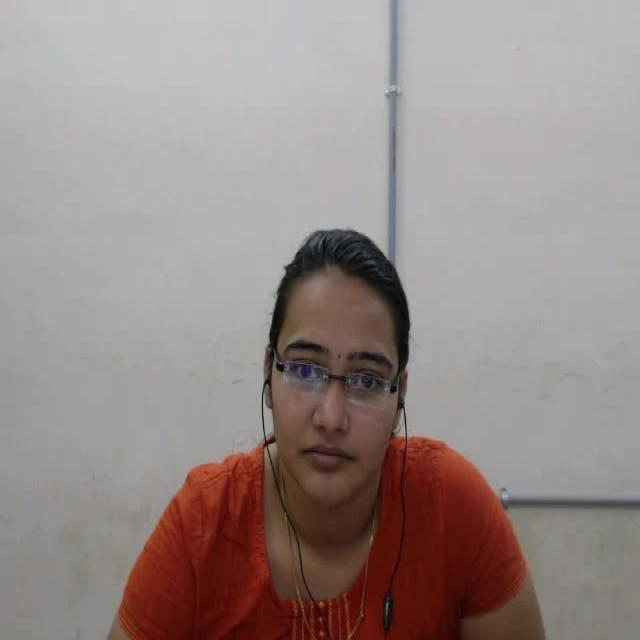Engaged: (225, 208, 452, 567)
